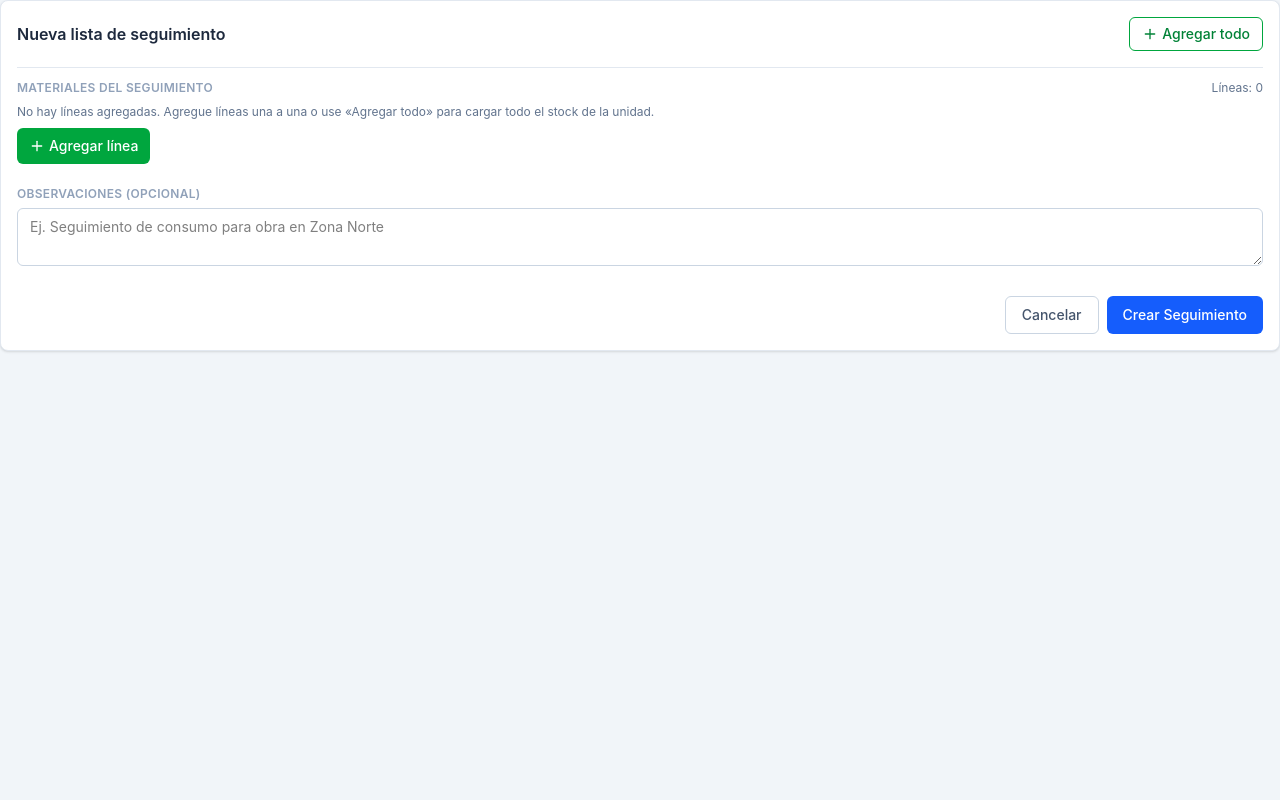
Test case: SeguimientoPanel — flujo con hooks reales (/equipos/{id}/seguimientos) › apertura: POST con el payload y recarga de seguimientos + inventario del equipo
Click the button "Agregar línea": (84, 146) [17,128,150,164]
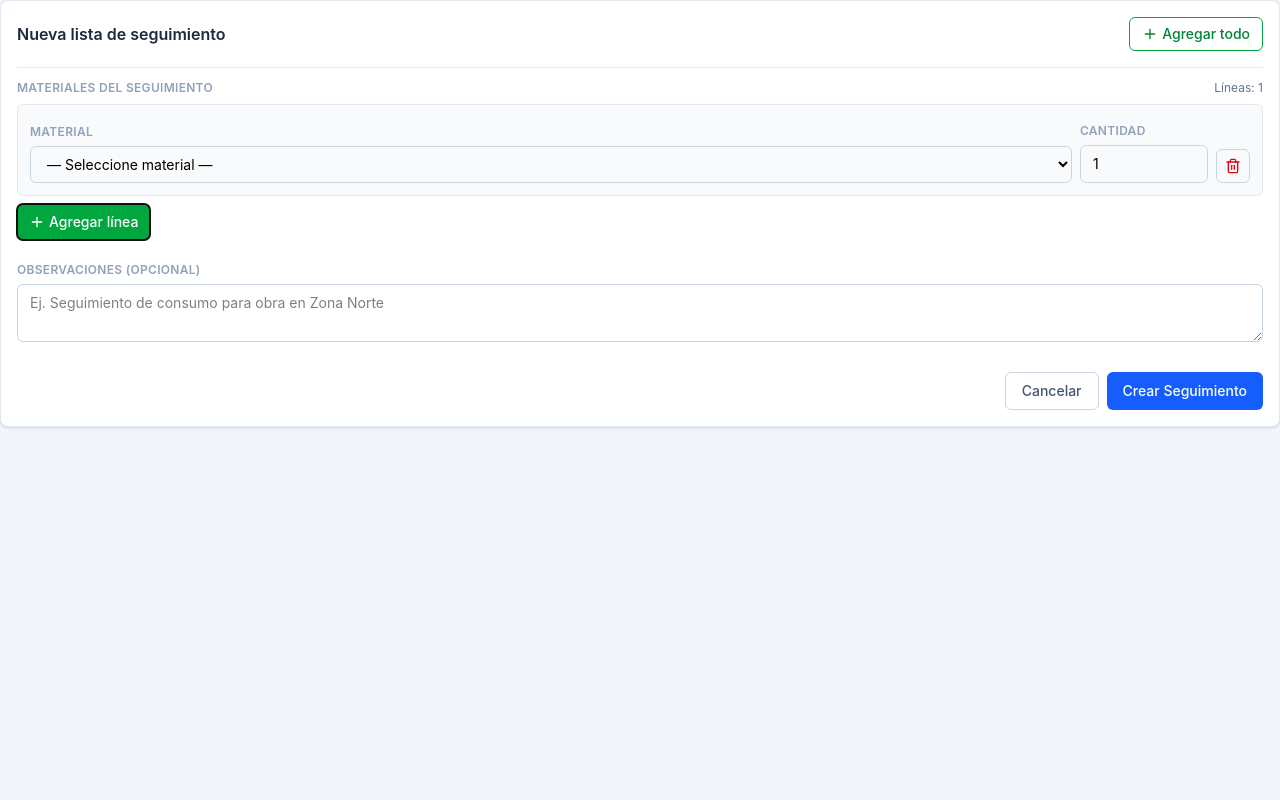
Select "Cable UTP Cat 6 (5)" in the dropdown: (551, 164) [30,146,1072,183]
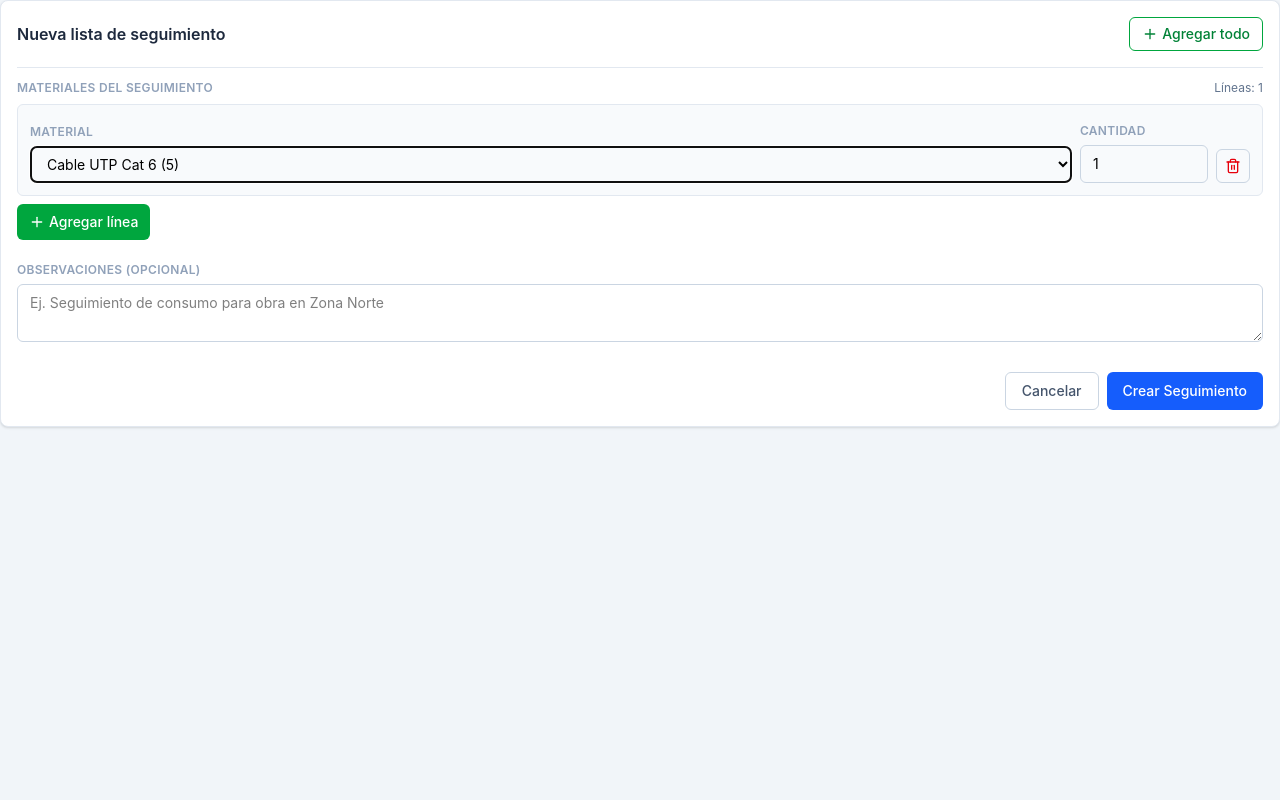
Click the button "Crear Seguimiento": (1185, 391) [1106,372,1263,410]
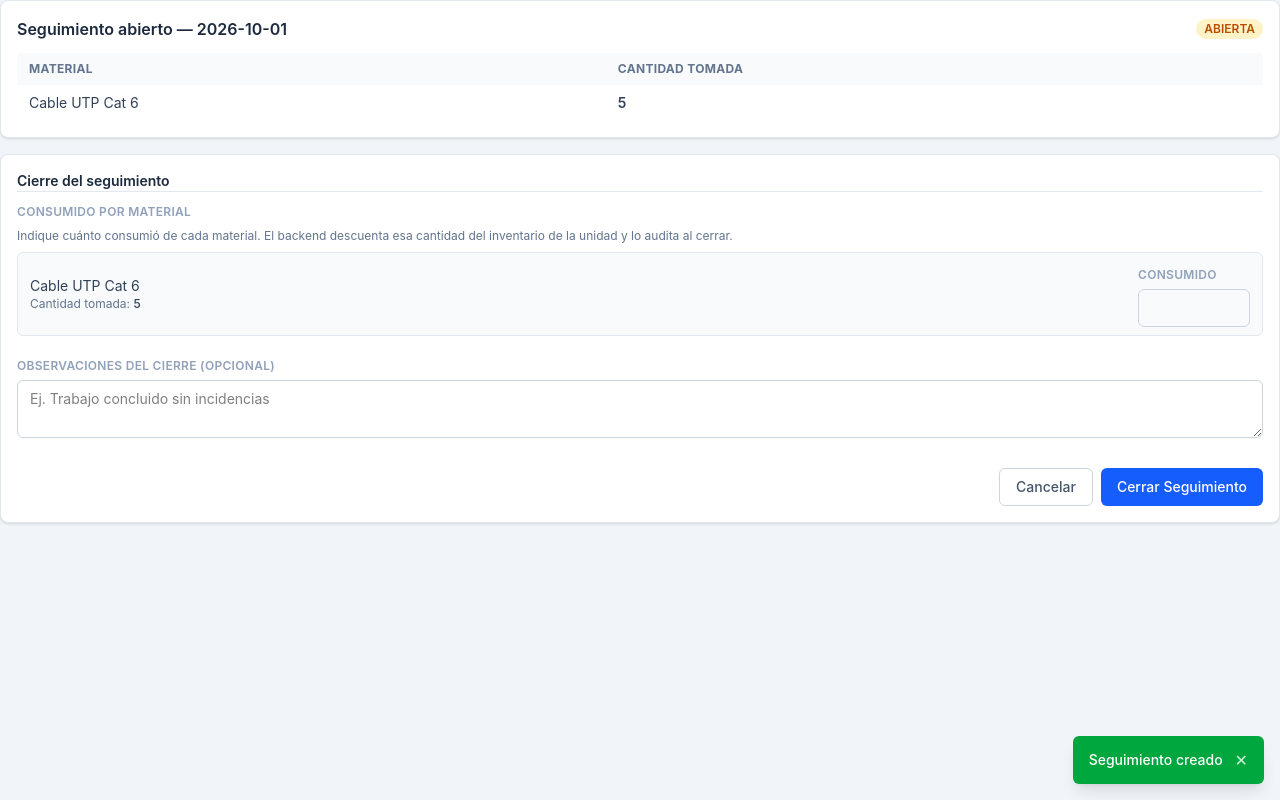
Result: the heading "Seguimiento abierto — 2026-10-01" is shown at [17,17,287,41]
